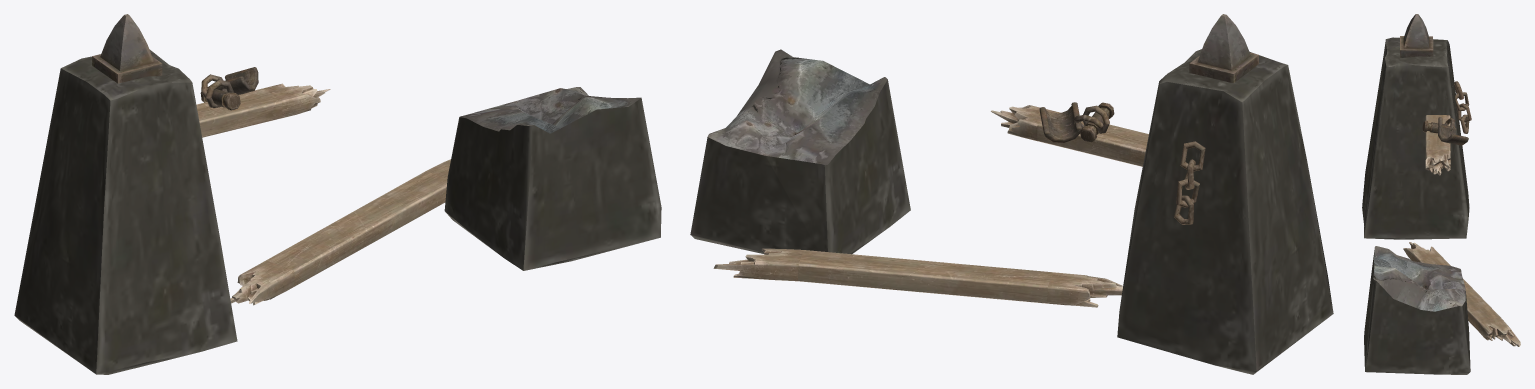
3 views of the same model, side by side, from view 1: azimuth 30°, elevation 25°; view 2: azimuth 150°, elevation 25°; view 3: azimuth 270°, elevation 25° (orthographic). The views are drawn at different scales.
Visible parts, largest first — view 1: SM_HoldingBrace_03_LOD0; view 2: SM_HoldingBrace_03_LOD0; view 3: SM_HoldingBrace_03_LOD0.
Part boxes in pixels (x1,y1,x2,y2): SM_HoldingBrace_03_LOD0: [14, 14, 661, 374]; SM_HoldingBrace_03_LOD0: [690, 14, 1333, 374]; SM_HoldingBrace_03_LOD0: [1362, 14, 1520, 374].
Bounding box in the file's own units: 2.67 × 1.42 × 0.9999.
4 materials, 4 textured.
